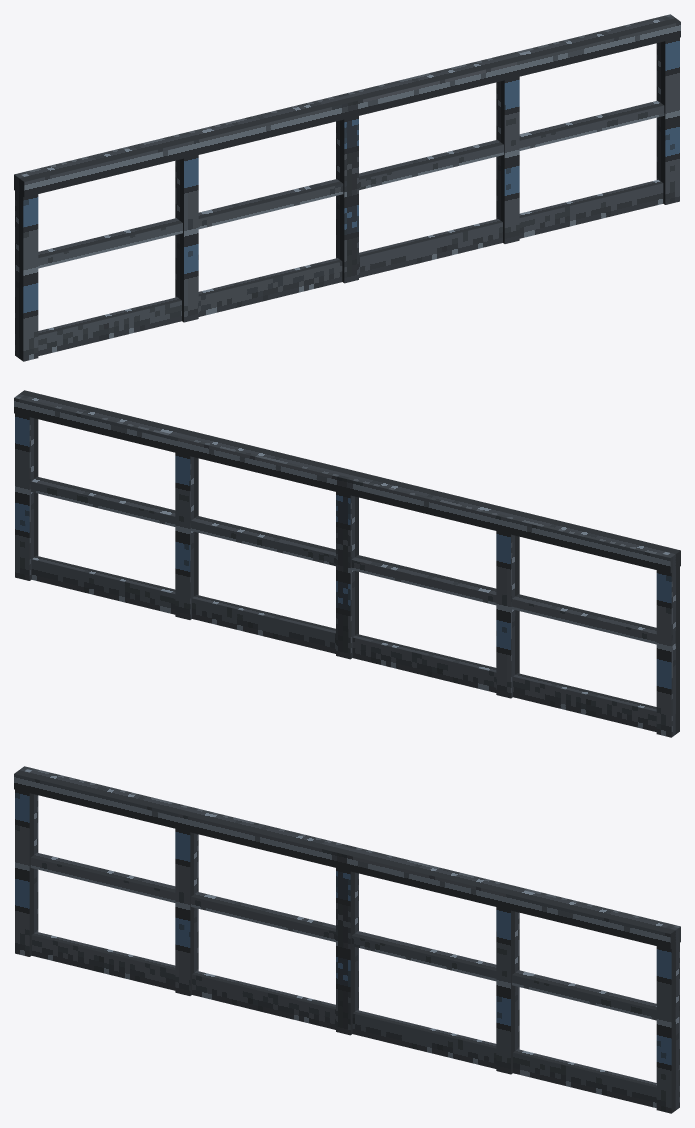
Rendered from arch_railing.glb.
3 views of the same model, one above another, from view 1: azimuth 30°, elevation 25°; view 2: azimuth 150°, elevation 25°; view 3: azimuth 330°, elevation 25° (orthographic).
Parts seen in each view (by area): view 1: railing; view 2: railing; view 3: railing.
Boxes of the visible parts, x1=… form: railing: x1=14, y1=14, x2=680, y2=361; railing: x1=14, y1=390, x2=680, y2=737; railing: x1=14, y1=766, x2=680, y2=1113.
Size of the model in its own units: 4 by 1.05 by 0.11.
Materials: 1 (1 with a texture image).
